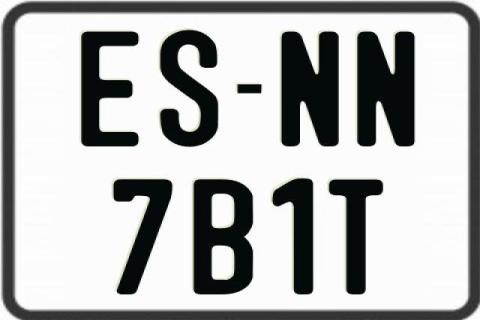0: (113, 177, 174, 297), (272, 178, 314, 298)
B: (194, 178, 253, 294)
E: (79, 30, 143, 146)
N: (278, 29, 339, 150), (356, 31, 414, 151)
S: (158, 30, 219, 148)
T: (329, 178, 389, 298)
